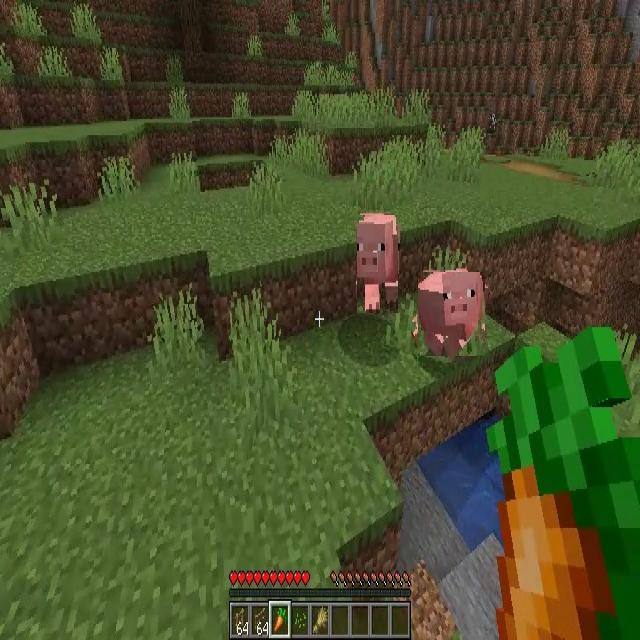pig: (418, 272, 485, 356), (357, 215, 398, 313)
